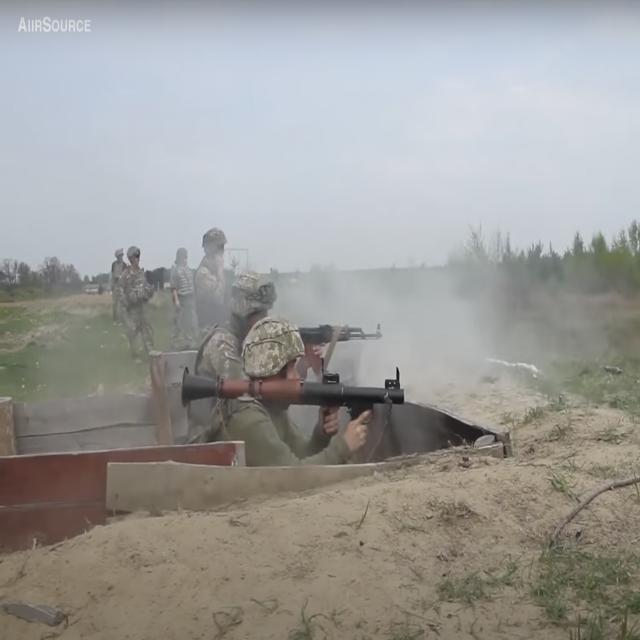bazooka: (170, 362, 410, 420)
